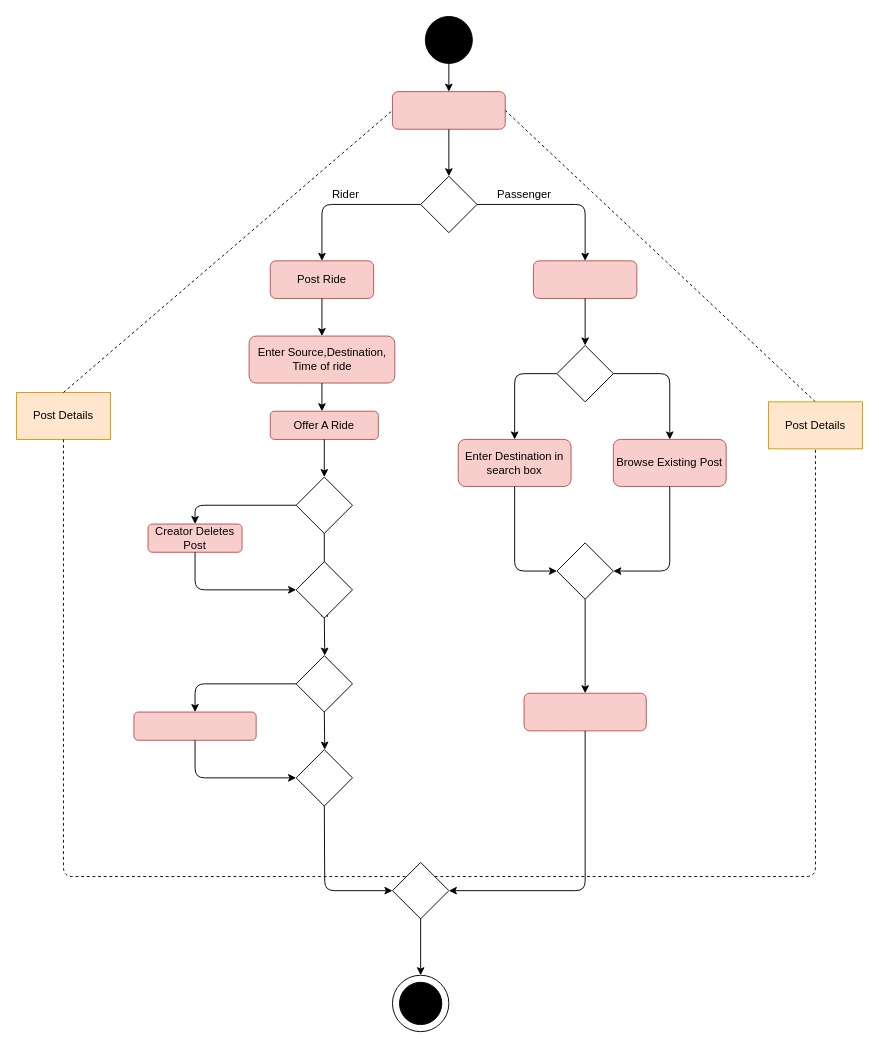
Some shapes in this 879 by 1048 pixel diagram are drawn without their labels. Here are the shapes that lost their labels. From the top down, the centre of each, then its label:
the point at 448,110: User Login
the point at 585,279: Search Ride
the point at 194,725: Post Delete based on condition
the point at 584,711: Book Ride
